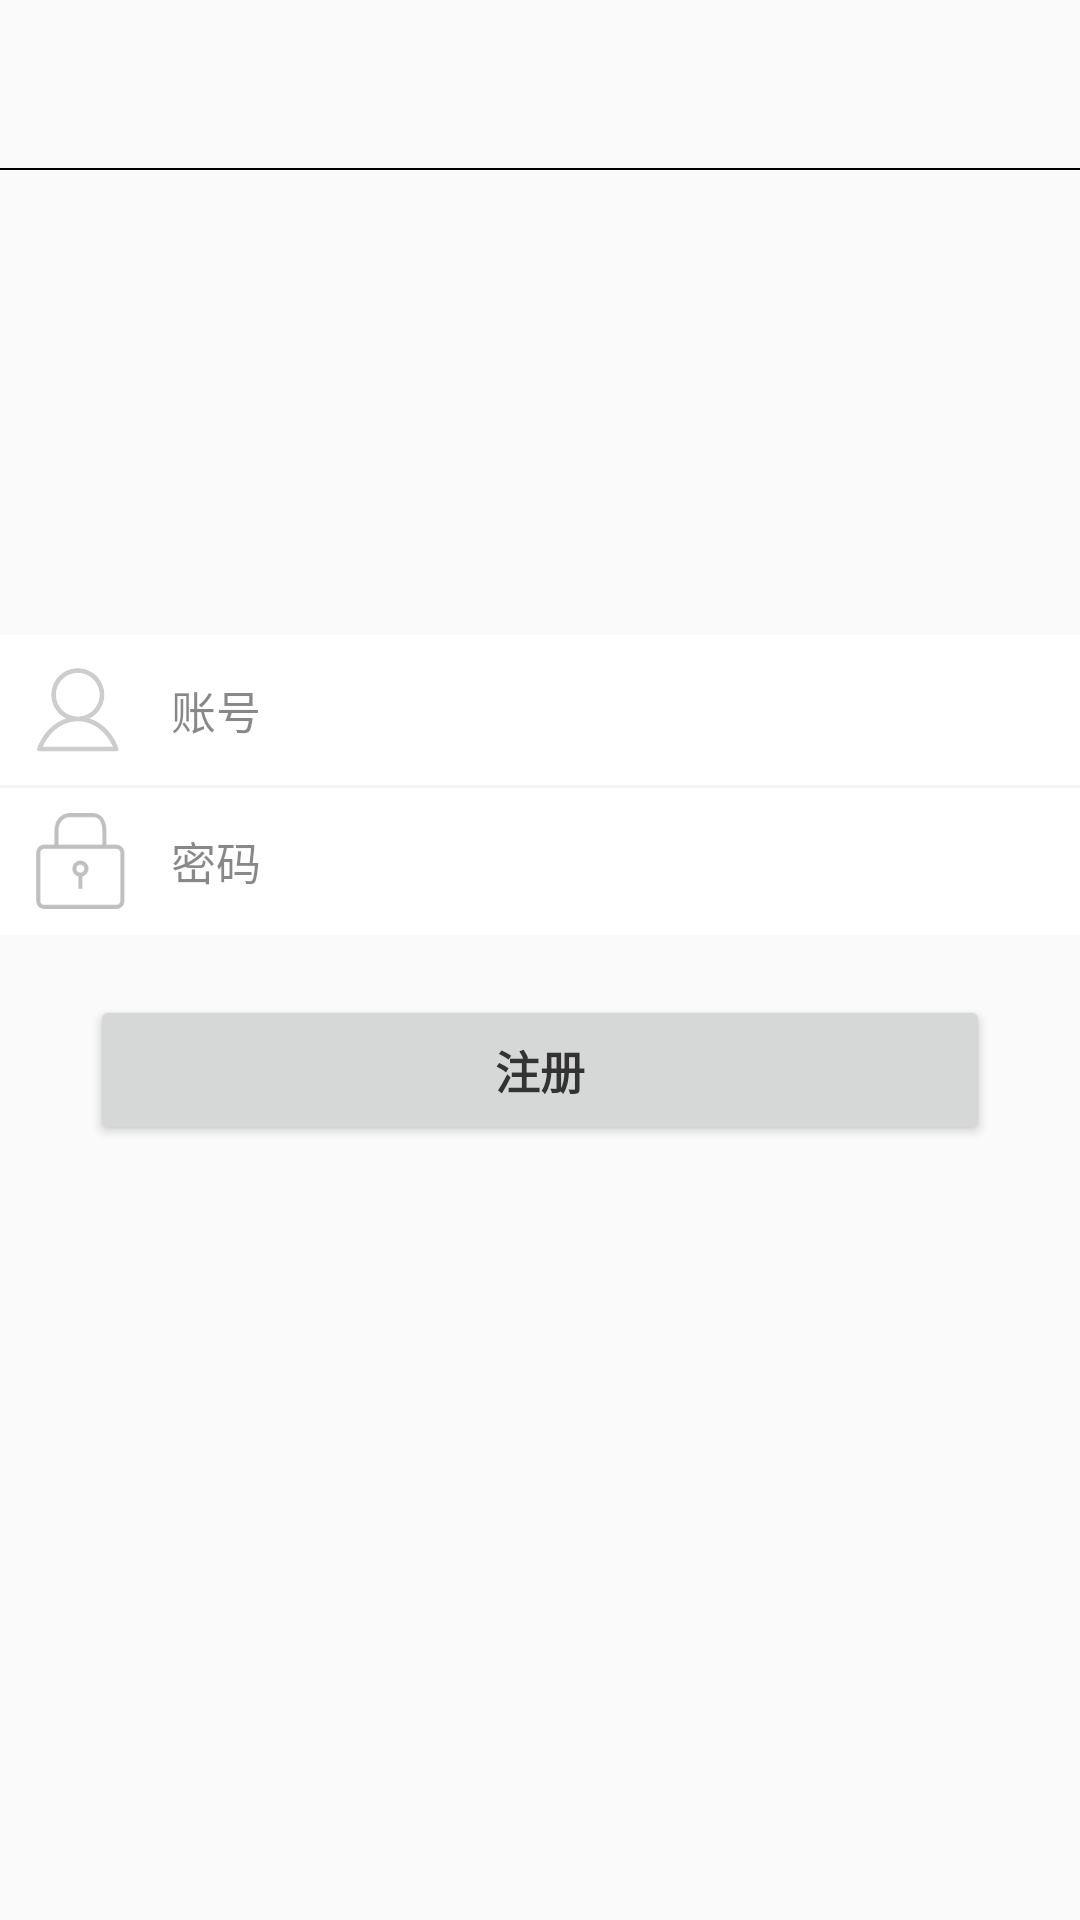

Icon bounding boxes for this 1080 x 1920 phone screenshot, format (x1, y1, x2, y2):
account: (37, 668, 118, 751)
lock: (36, 813, 125, 909)
